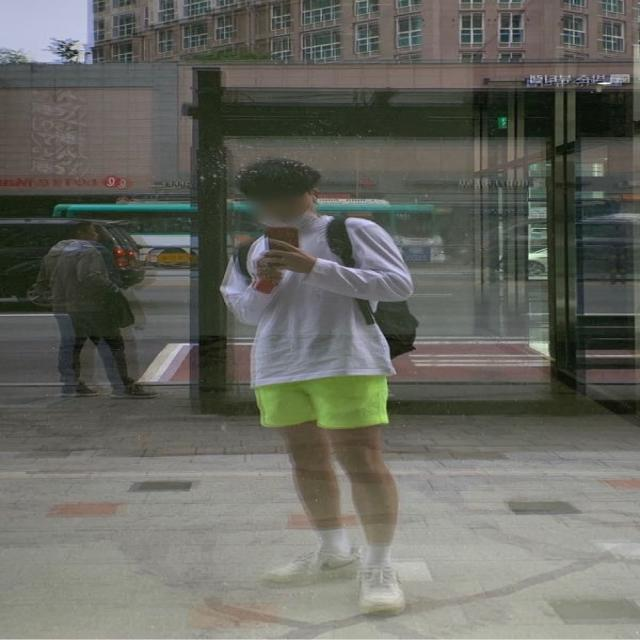longsleeve: (219, 215, 413, 385)
shortpants: (255, 369, 393, 430)
